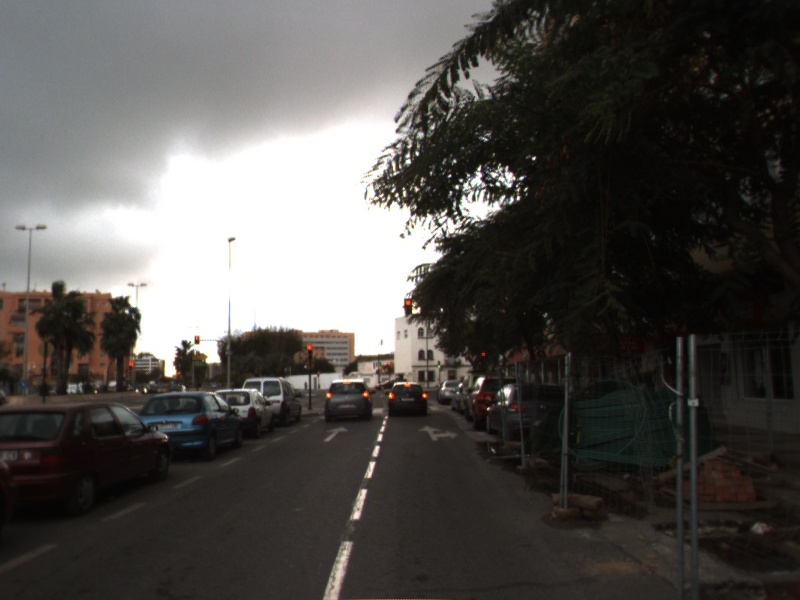STRAIGHT: (322, 424, 350, 443)
STRAIGHT_RIGHT: (417, 424, 460, 442)
